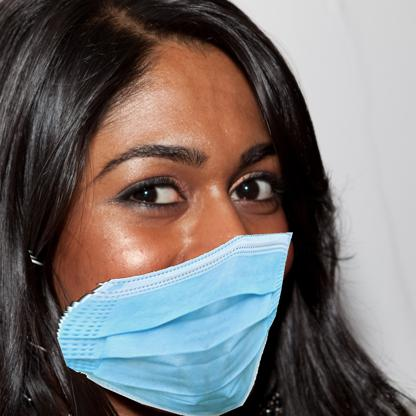mask: (56, 229, 294, 416)
